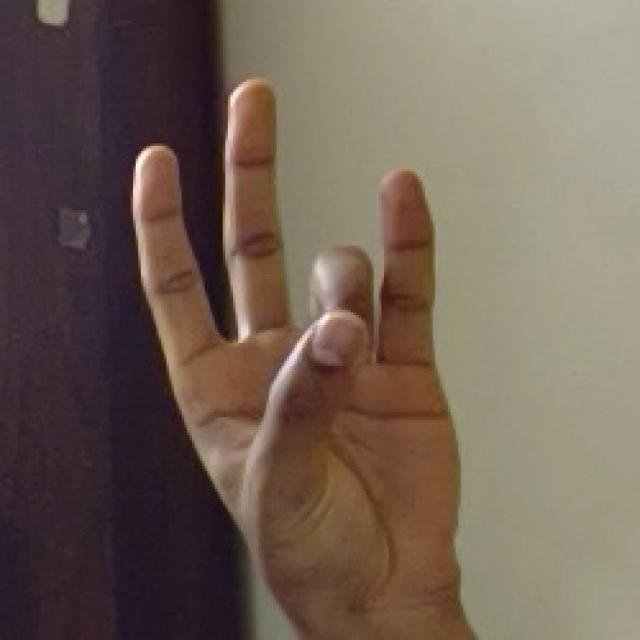Numeric-7: (118, 68, 456, 606)
